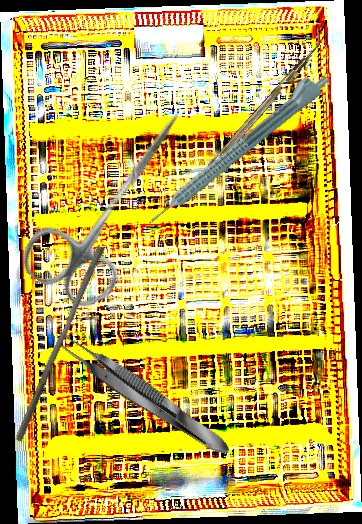Chopper: (174, 27, 332, 199)
Handpiece: (140, 64, 333, 228)
Iris Scissors: (14, 84, 215, 318)
Pusher: (14, 243, 106, 445)
Tissue Forceps: (52, 327, 237, 465)
